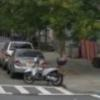crosswalks: (0, 84, 72, 96)
